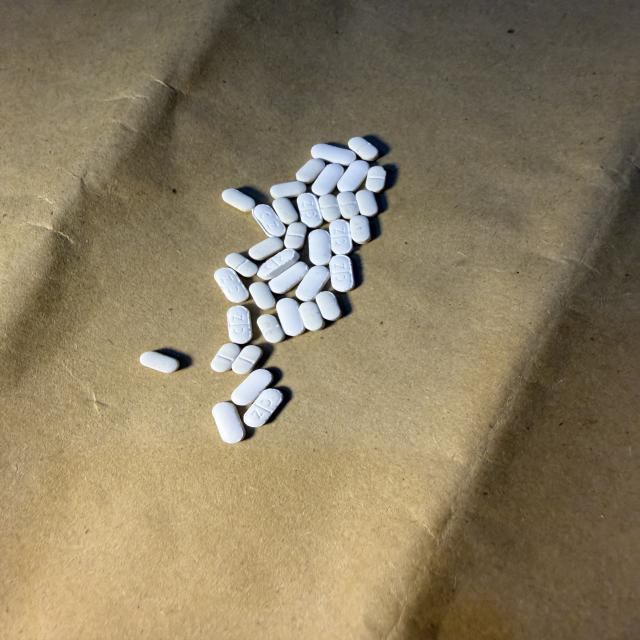pill: (231, 369, 272, 405), (244, 389, 282, 427), (212, 403, 245, 443), (257, 249, 299, 280), (269, 262, 308, 294), (296, 266, 329, 302), (214, 268, 248, 302), (252, 205, 285, 237), (277, 298, 304, 336), (337, 160, 369, 191), (312, 164, 343, 196), (227, 306, 252, 344), (311, 144, 355, 165), (297, 193, 323, 228), (330, 255, 354, 292), (211, 343, 240, 372), (232, 346, 262, 374), (140, 352, 179, 373), (249, 237, 284, 260), (309, 230, 331, 265), (225, 253, 257, 277), (257, 315, 284, 343), (330, 220, 352, 254), (315, 292, 341, 320), (222, 189, 255, 211), (348, 137, 378, 161), (249, 282, 275, 309), (272, 198, 298, 224), (296, 159, 324, 183), (300, 302, 324, 330), (270, 181, 306, 198), (350, 215, 371, 244), (285, 222, 307, 249), (356, 189, 378, 216), (319, 194, 340, 222), (337, 192, 358, 219), (366, 166, 386, 193)
